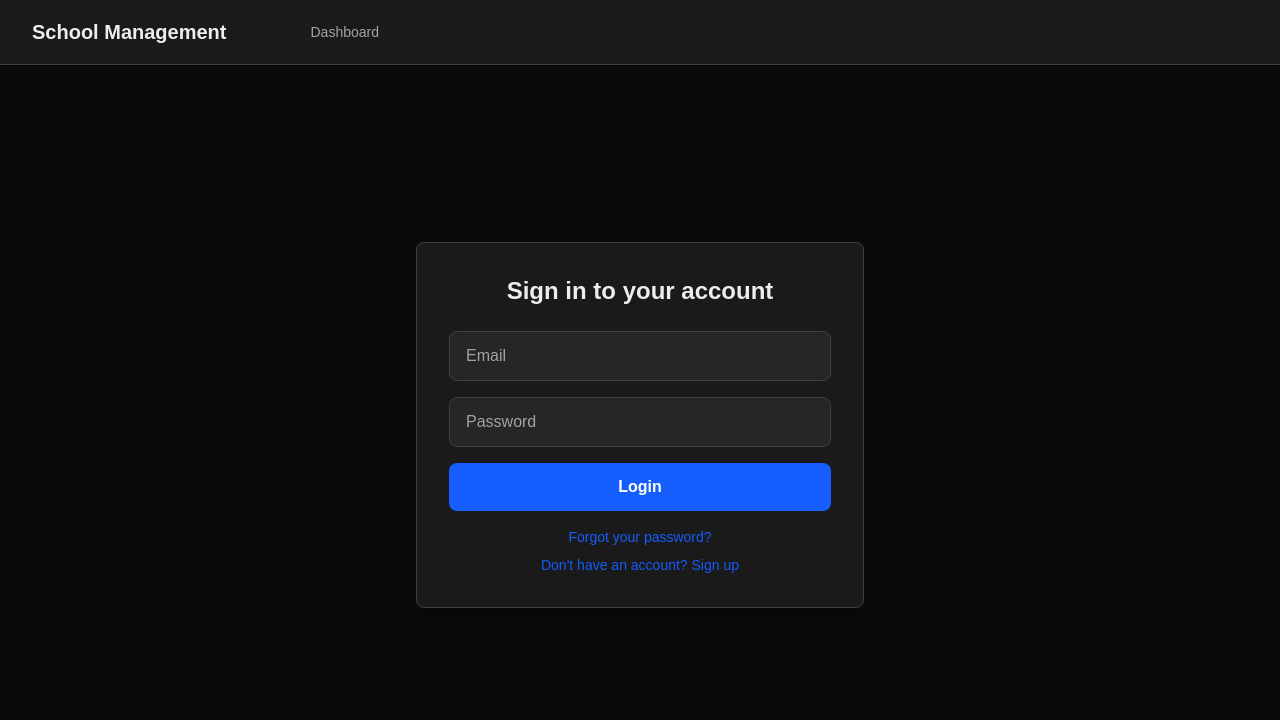
Test: Authentication E2E Tests › Login Page › should show validation error for short password
The width and height of the screenshot is (1280, 720).
Type "test@example.com" into the field with id "email" at (640, 356), box [449,331,831,381]
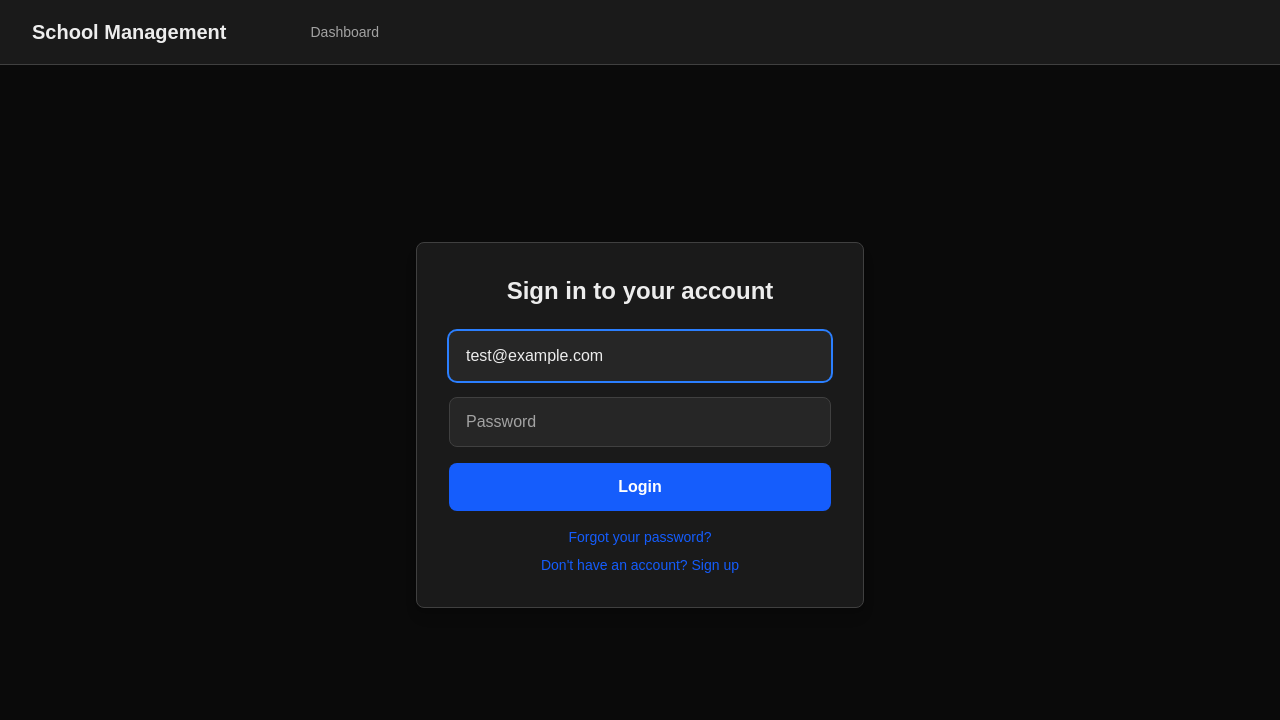
Type "123" into the password field with placeholder "Password" at (640, 422), box [449,397,831,447]
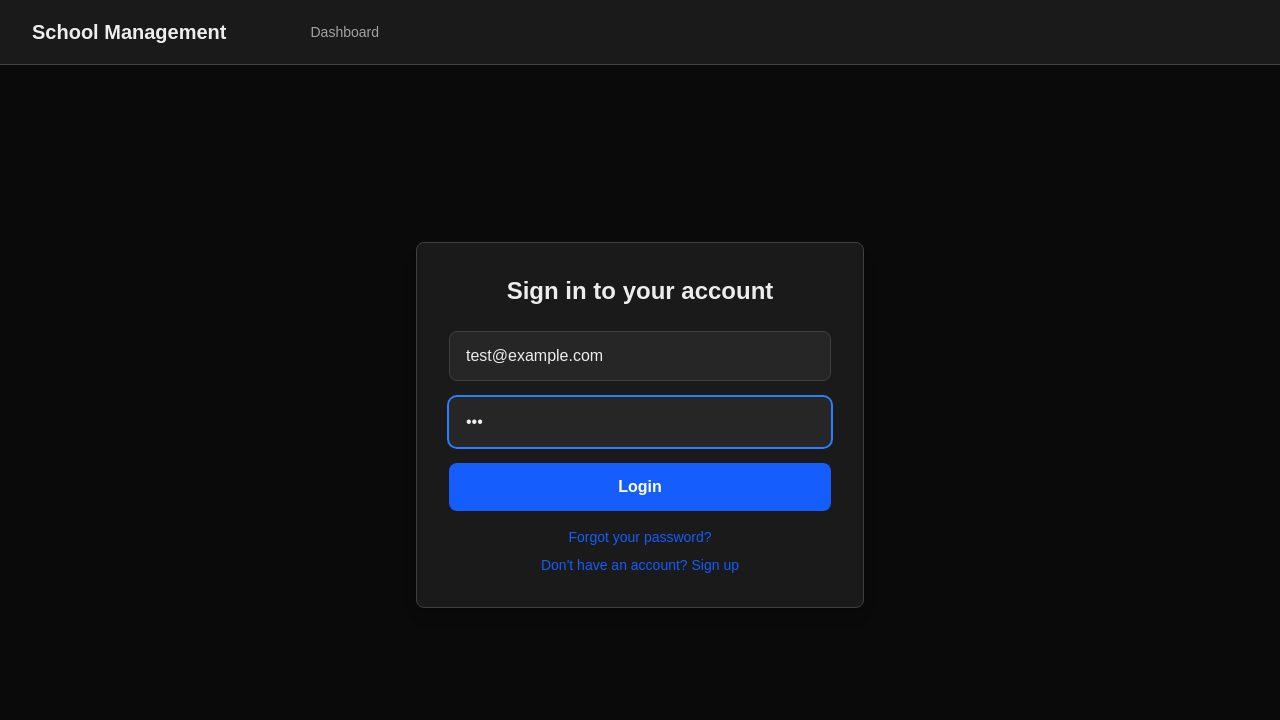
Click the submit button at (640, 487), box [449,463,831,511]
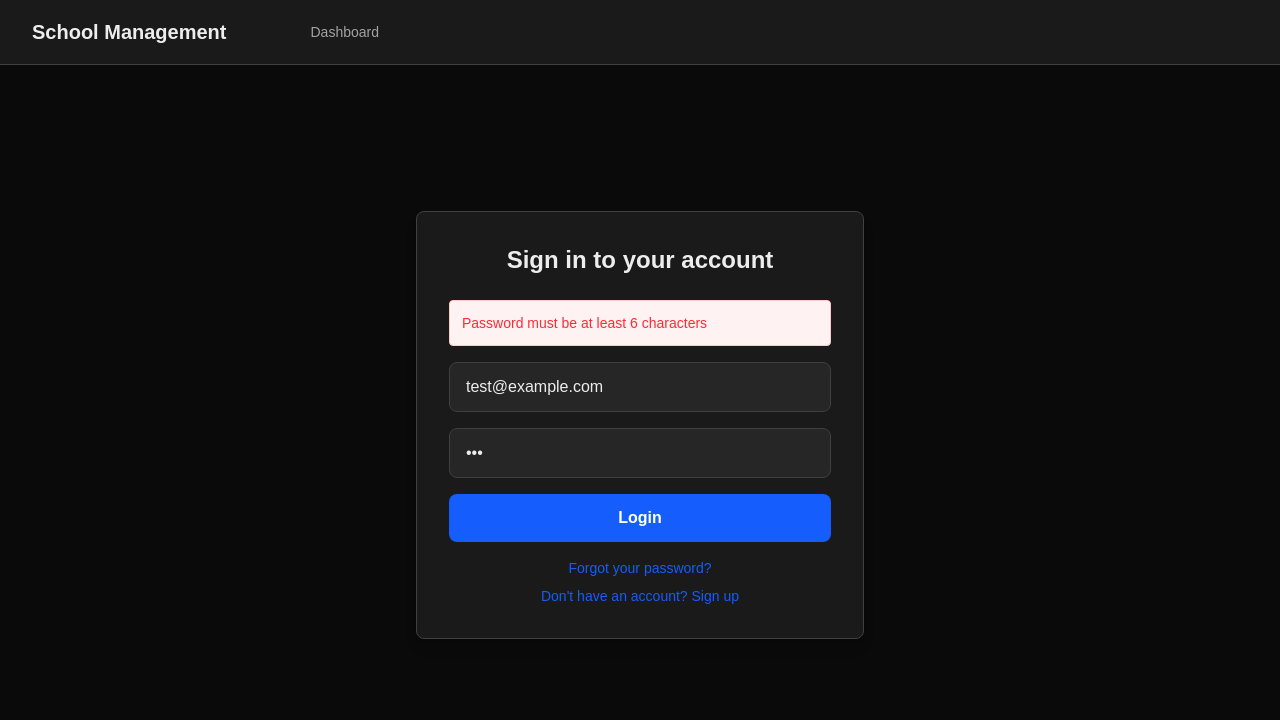
Expected: the text "Password must be at least 6 characters" is shown, [449,300,831,346]
